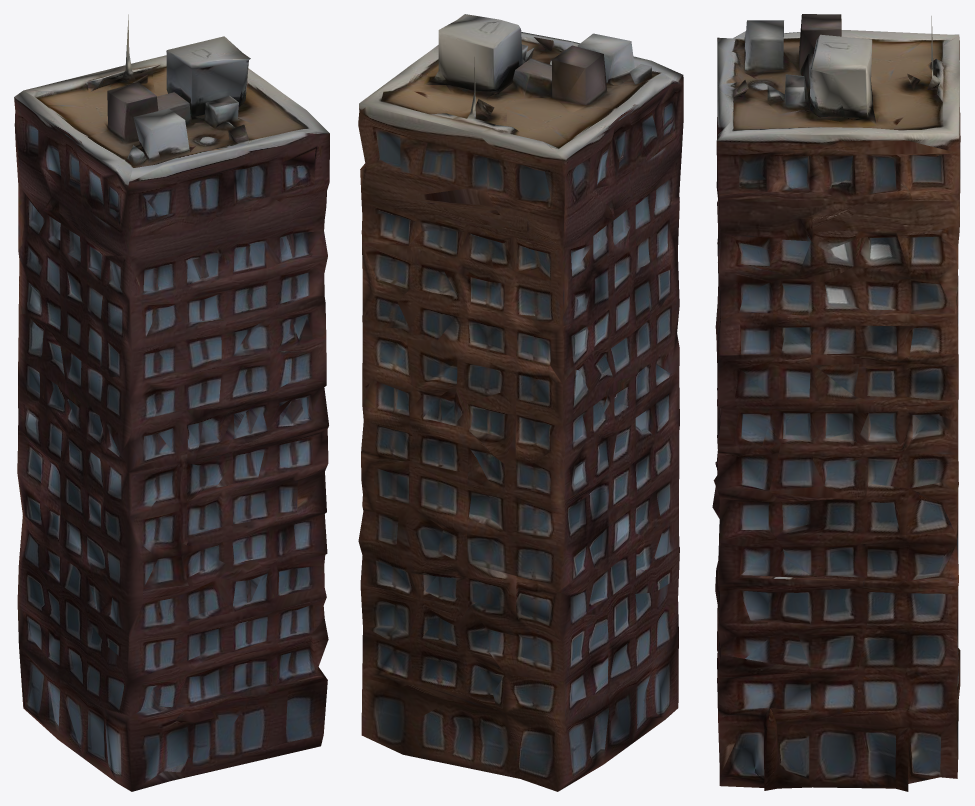
The model's file is bld5_lo.glb.
3 views of the same model, side by side, from view 1: azimuth 30°, elevation 25°; view 2: azimuth 150°, elevation 25°; view 3: azimuth 270°, elevation 25° (orthographic). The views are drawn at different scales.
Visible parts, largest first — view 1: tripo_node_bc4e6107-4559-41dd-a509-31184fe4bcd3; view 2: tripo_node_bc4e6107-4559-41dd-a509-31184fe4bcd3; view 3: tripo_node_bc4e6107-4559-41dd-a509-31184fe4bcd3.
Part boxes in pixels (x1=…): tripo_node_bc4e6107-4559-41dd-a509-31184fe4bcd3: x1=14, y1=14, x2=329, y2=791; tripo_node_bc4e6107-4559-41dd-a509-31184fe4bcd3: x1=358, y1=14, x2=683, y2=791; tripo_node_bc4e6107-4559-41dd-a509-31184fe4bcd3: x1=712, y1=14, x2=960, y2=791.
Size of the model in its own units: 0.3455 by 0.9997 by 0.3105.
Materials: 1 (1 with a texture image).
